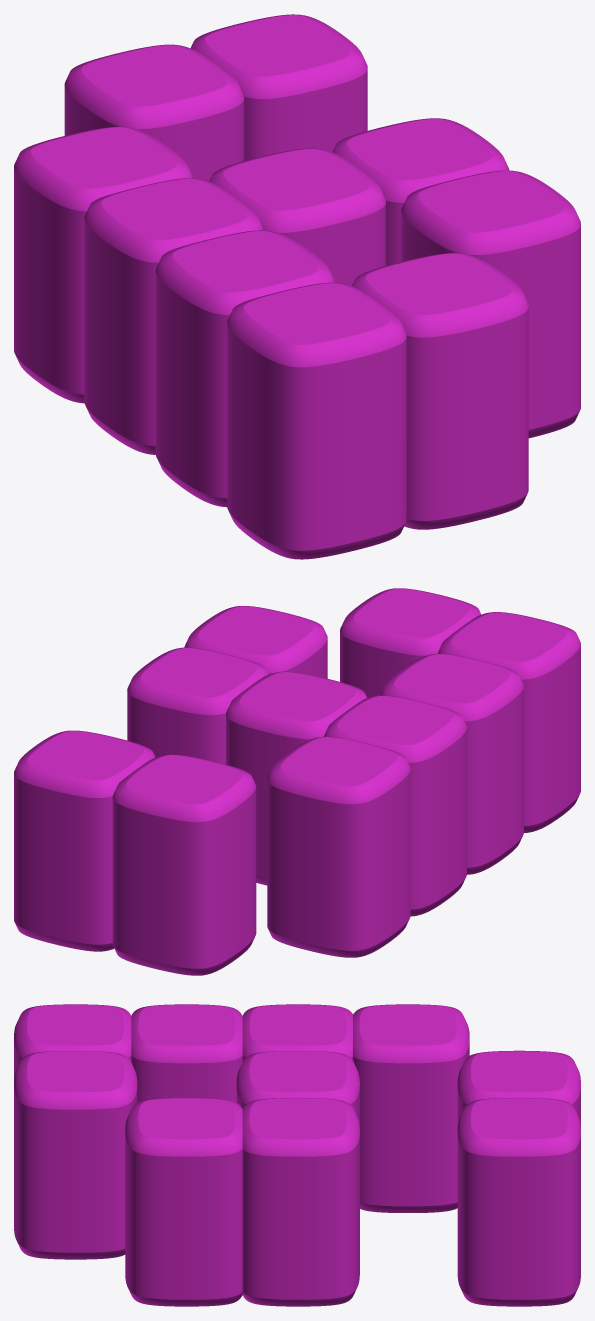
The model's file is Letter_g_Small.fbx.
3 renders of one model, top to bottom at view 1: azimuth 30°, elevation 25°; view 2: azimuth 150°, elevation 25°; view 3: azimuth 270°, elevation 25°, orthographic. The views are drawn at different scales.
Parts seen in each view (by area): view 1: Letter_g; view 2: Letter_g; view 3: Letter_g.
Part boxes in pixels (x1,y1,x2,y2): Letter_g: (14,14,580,559); Letter_g: (14,588,580,975); Letter_g: (14,1004,580,1306).
Size of the model in its own units: 0.2619 by 0.14 by 0.4311.
